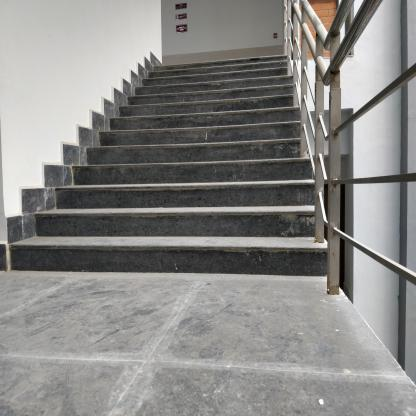stairs: (154, 64, 286, 290)
